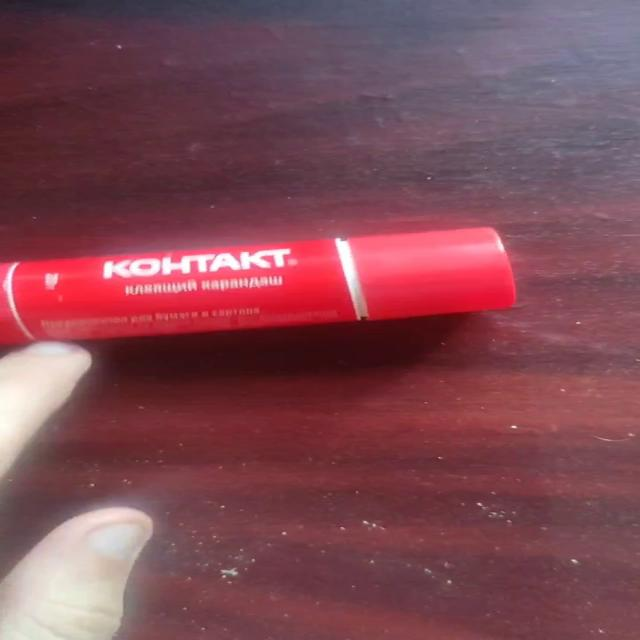glue: (1, 224, 517, 346)
